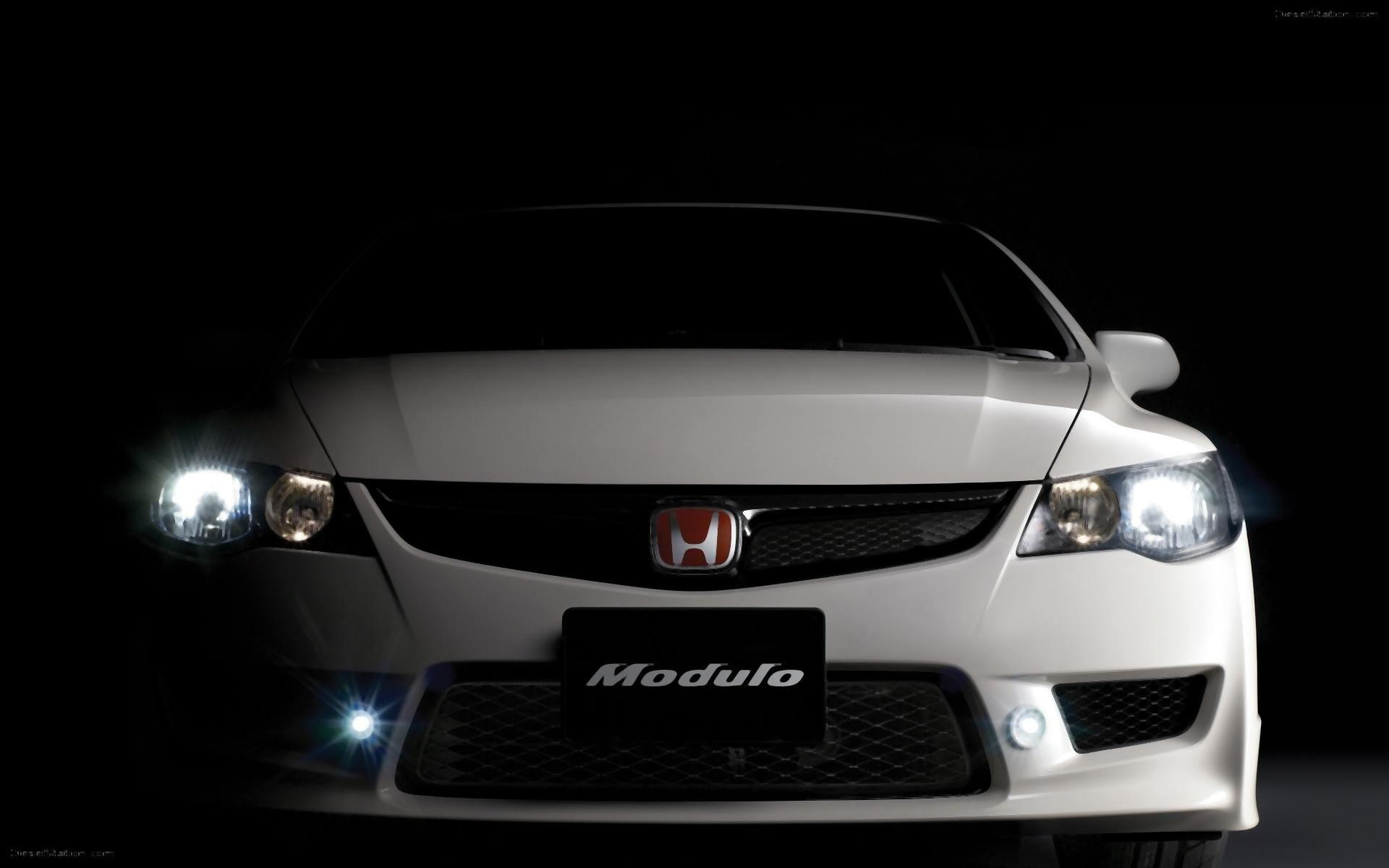Car hood: (266, 343, 1101, 491)
Front bumper: (196, 577, 1283, 844)
Headlight - -L-: (1001, 439, 1252, 570)
Headlight - -R-: (123, 439, 382, 575)
Side mirror - -L-: (1085, 321, 1215, 417)
